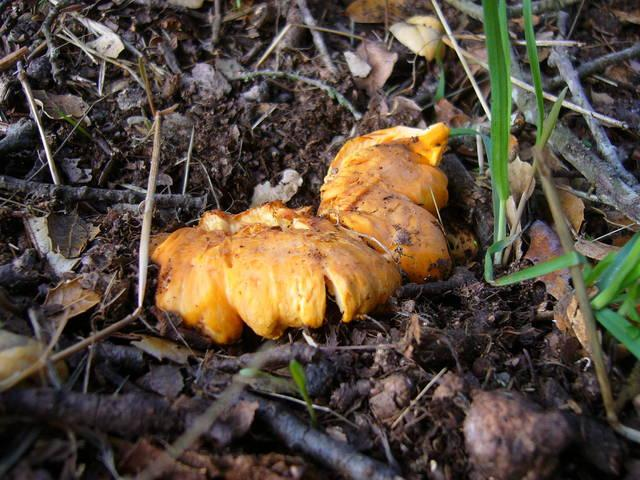edible_mushroom: (148, 120, 463, 344)
